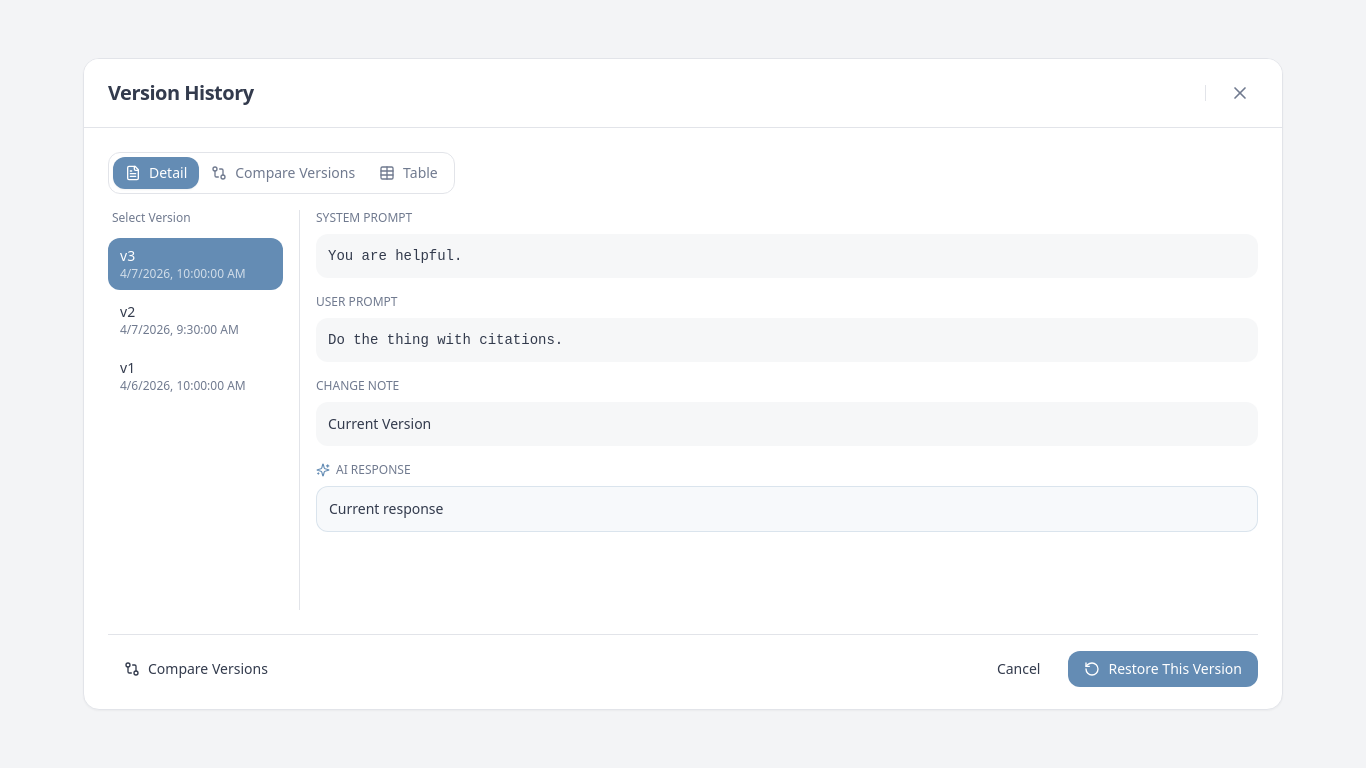
VersionHistoryModal › shows a table view with changed cells and opens a focused field diff
Expected: the text "Current Version" is shown, [316,402,1258,446]
Click the button "Table". click: [408, 173]
box: [367,157,450,189]
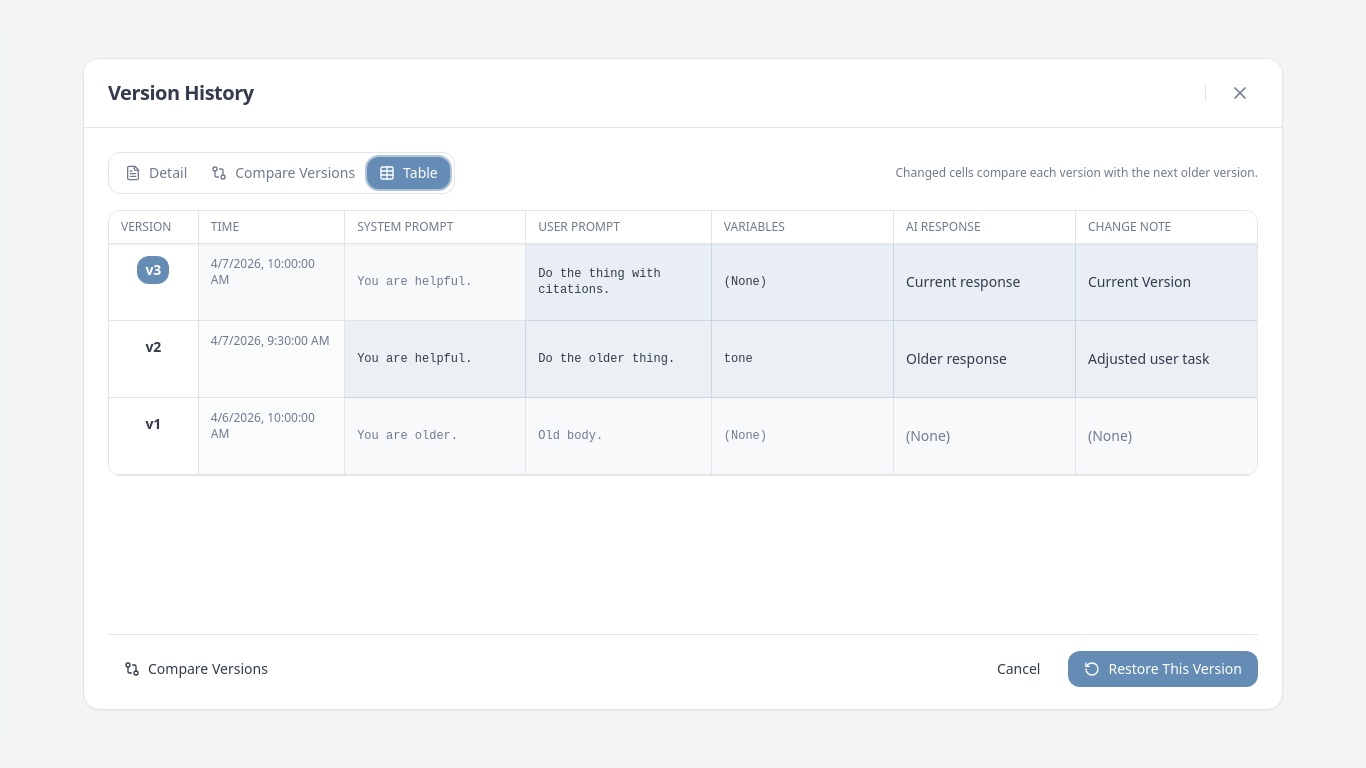
Now the table named "Version matrix" is shown, box [109,211,1257,475]
Now the column heading "Version" is shown, box [109,211,199,244]
Now the row "v3" shows "Do the thing with citations."
Click the button "Do the thing with citations.". click: [619, 282]
box: [526,244,711,320]
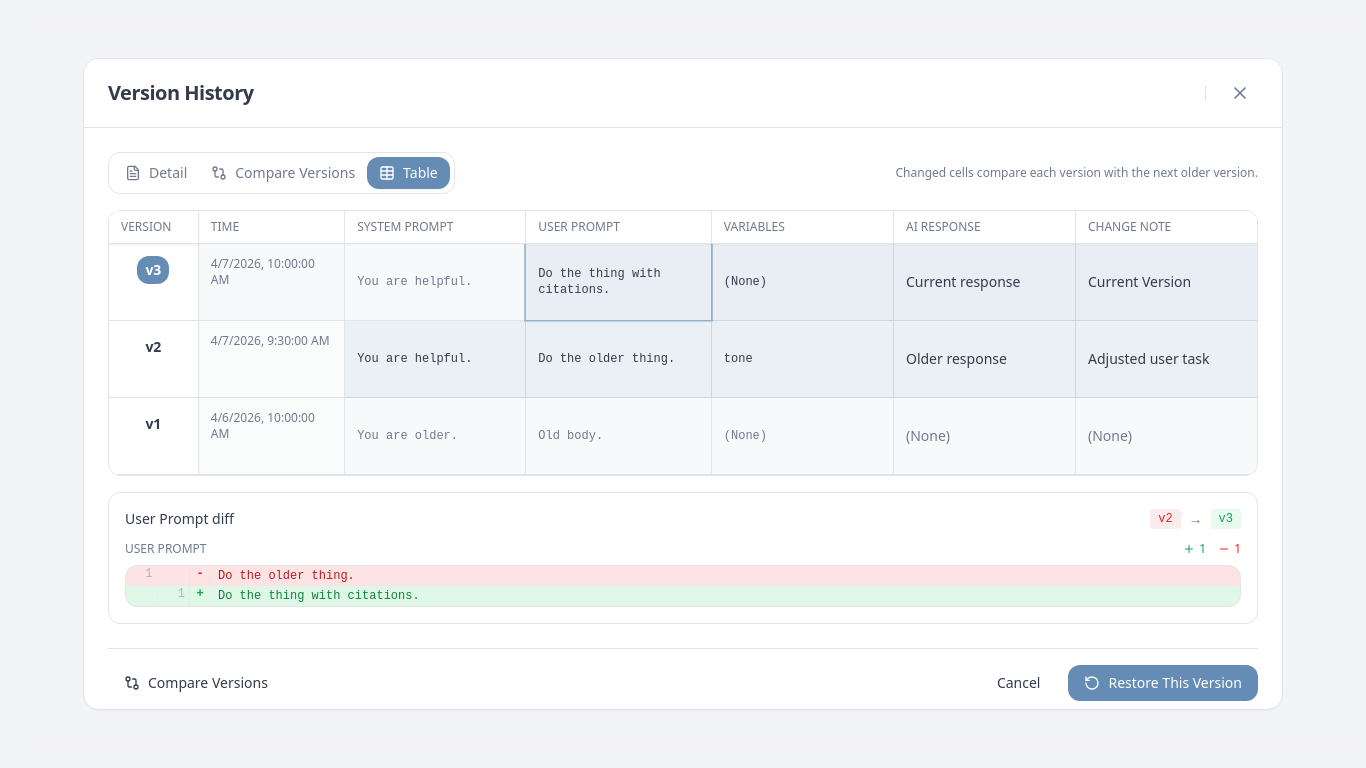
Now the button "v2" is shown, box [137,333,169,361]
Now the button "v3" is shown, box [137,256,169,284]
Now the text "User Prompt diff" is shown, box [125,509,234,529]
